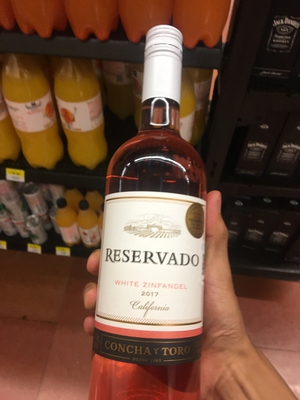reservado white zinfandel: (90, 20, 210, 400)
